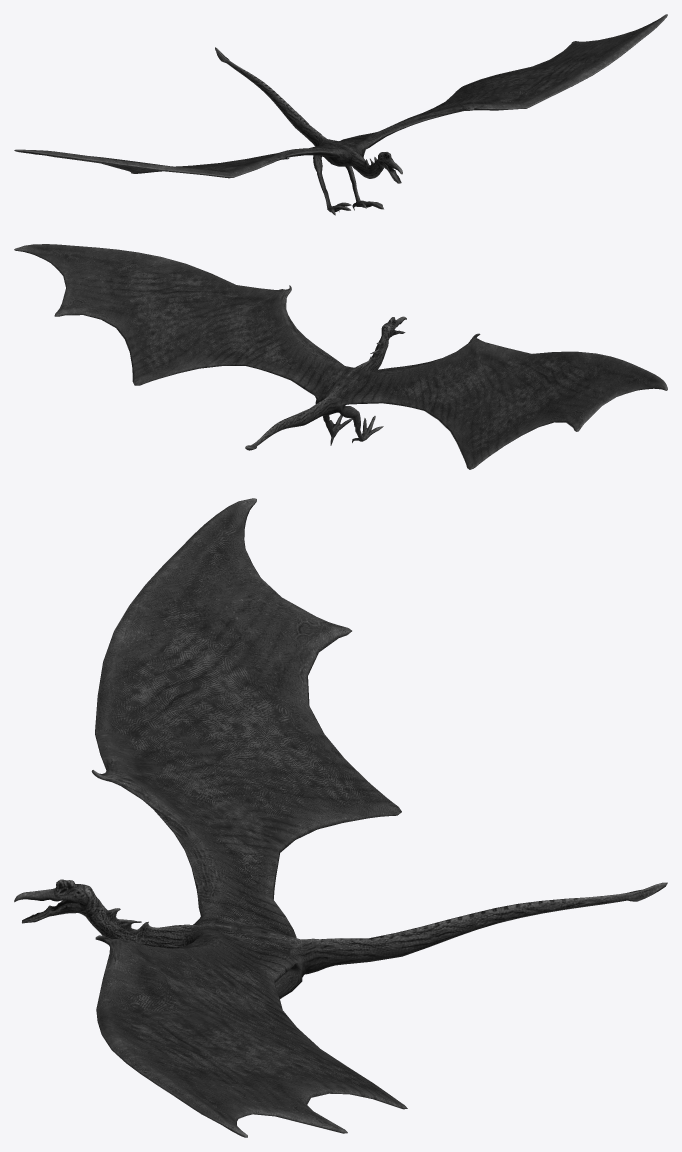
Rendered from Fellbeast_Animate_Grab_Glide_20.obj.
The picture shows the model from 3 angles, top to bottom: view 1: azimuth 30°, elevation 25°; view 2: azimuth 150°, elevation 25°; view 3: azimuth 270°, elevation 25°; orthographic projection. The views are drawn at different scales.
Parts seen in each view (by area): view 1: Fellbeast; view 2: Fellbeast; view 3: Fellbeast.
Part boxes in pixels (x1,y1,x2,y2): Fellbeast: [14, 14, 667, 215]; Fellbeast: [14, 244, 667, 469]; Fellbeast: [14, 498, 667, 1137].
Bounding box in the file's own units: 9.35 × 1.96 × 4.32.
